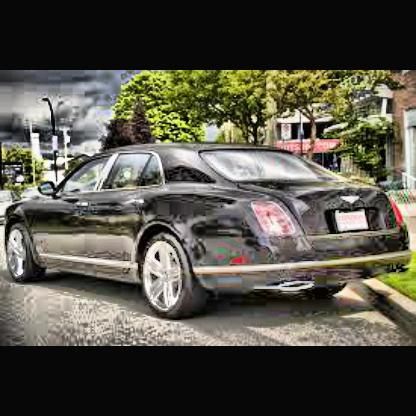Bentley Mulsanne Sedan 2011: (3, 139, 414, 323)
